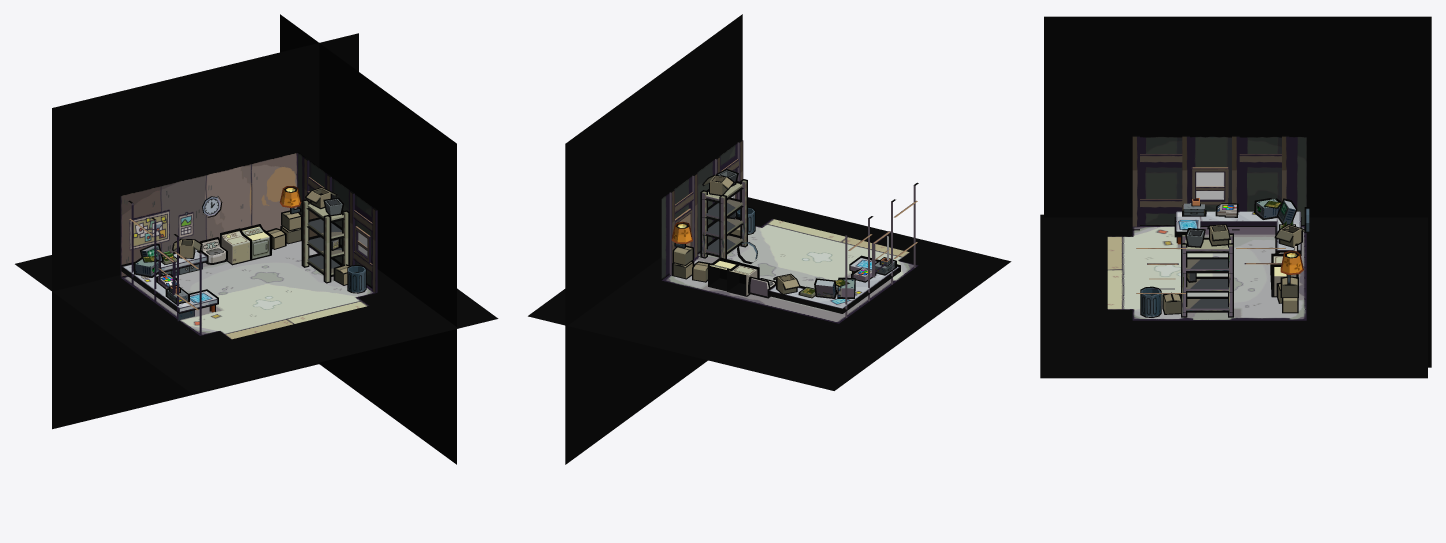
3 views of the same model, side by side, from view 1: azimuth 30°, elevation 25°; view 2: azimuth 150°, elevation 25°; view 3: azimuth 270°, elevation 25° (orthographic). The views are drawn at different scales.
Parts seen in each view (by area): view 1: ChamberFloor (1), ChamberFloor (2), Cube_0, ChamberFloor_0, Cube_002_0, Cube_003_0, Cube_005_0, Cube_001_0; view 2: ChamberFloor (2), ChamberFloor_0, Cube_0, Cube_002_0, Cube_003_0, Cube_005_0, Cube_001_0; view 3: ChamberFloor (3), ChamberFloor_0, Cube_0, Cube_002_0, Cube_003_0, Cube_001_0, Cylinder_002_0, Cylinder_0, Cube_007_0, Cube_005_0.
Boxes of the visible parts, left/top/right/bottom form: ChamberFloor (1): left=52, top=33, right=358, bottom=429; ChamberFloor (2): left=280, top=14, right=456, bottom=464; Cube_0: left=120, top=152, right=377, bottom=339; ChamberFloor_0: left=15, top=255, right=498, bottom=393; Cube_002_0: left=301, top=187, right=349, bottom=283; Cube_003_0: left=121, top=249, right=218, bottom=321; Cube_005_0: left=220, top=224, right=272, bottom=265; Cube_001_0: left=133, top=244, right=176, bottom=277; ChamberFloor (2): left=565, top=14, right=742, bottom=464; ChamberFloor_0: left=528, top=197, right=1011, bottom=390; Cube_0: left=661, top=140, right=918, bottom=323; Cube_002_0: left=700, top=169, right=747, bottom=258; Cube_003_0: left=767, top=255, right=900, bottom=313; Cube_005_0: left=708, top=257, right=759, bottom=296; Cube_001_0: left=798, top=277, right=855, bottom=298; ChamberFloor (3): left=1044, top=16, right=1431, bottom=367; ChamberFloor_0: left=1040, top=214, right=1427, bottom=378; Cube_0: left=1107, top=135, right=1306, bottom=320; Cube_002_0: left=1181, top=224, right=1233, bottom=317; Cube_003_0: left=1174, top=197, right=1301, bottom=255; Cube_001_0: left=1254, top=198, right=1297, bottom=229; Cylinder_002_0: left=1140, top=286, right=1161, bottom=317; Cylinder_0: left=1280, top=250, right=1303, bottom=284; Cube_007_0: left=1274, top=224, right=1304, bottom=247; Cube_005_0: left=1270, top=250, right=1298, bottom=297.
Bounding box in the file's own units: 15.58 × 15.58 × 15.73.
Materials: 3 (2 with a texture image).
